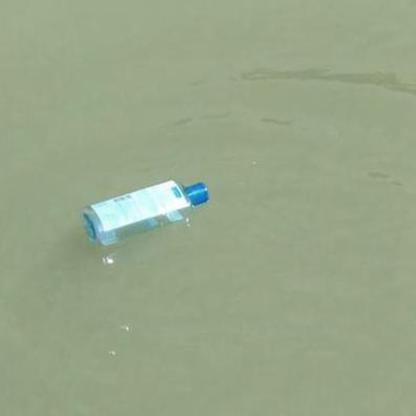plastic bottle: (82, 178, 209, 245)
